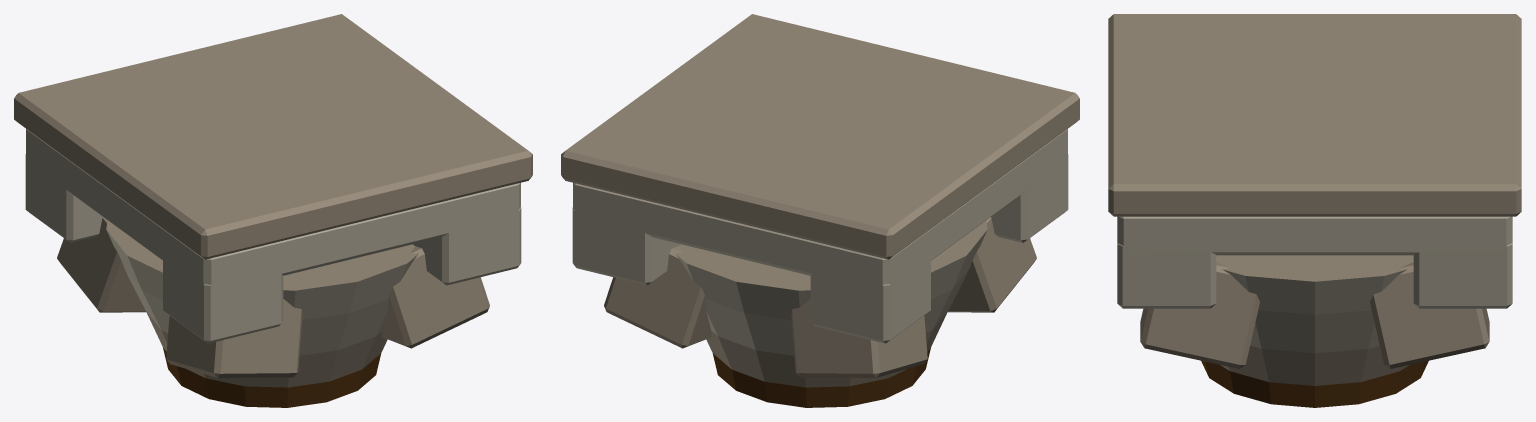
File: mod_classical_column_capital.glb
The picture shows the model from 3 angles, left to right: view 1: azimuth 30°, elevation 25°; view 2: azimuth 150°, elevation 25°; view 3: azimuth 270°, elevation 25°; orthographic projection. The views are drawn at different scales.
Parts seen in each view (by area): view 1: Mod_Classical_Column_Capital; view 2: Mod_Classical_Column_Capital; view 3: Mod_Classical_Column_Capital.
Boxes of the visible parts, box(x1,y1,x2,y2) form: Mod_Classical_Column_Capital: box(14, 14, 532, 407); Mod_Classical_Column_Capital: box(561, 14, 1079, 407); Mod_Classical_Column_Capital: box(1108, 14, 1521, 407).
Size of the model in its own units: 0.92 by 0.64 by 0.92.
